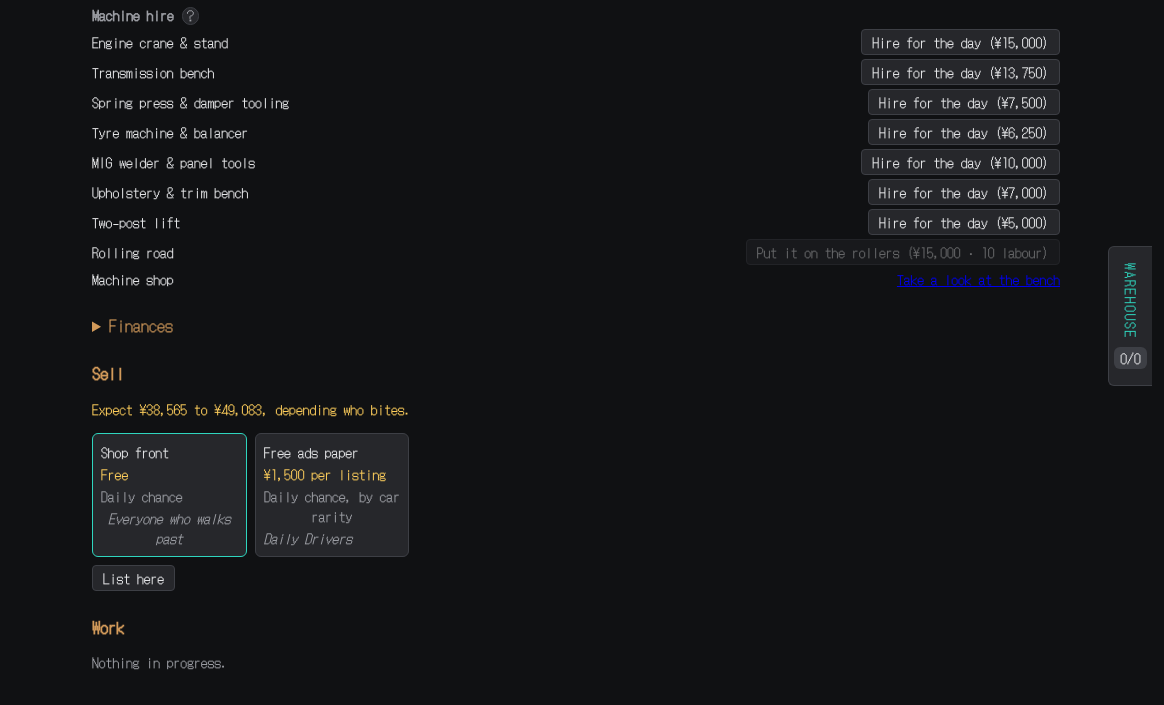
Scenario: CarDetailScreen › Sprint 114: the selling rework (channel picker + want-line) › lists the car on the armed channel and shows it as the active channel
(page scrolled)
What coordinates should you click on to do the following:
click the button with test id "channel-option-freeAdsPaper"
I would click on:
 (332, 495)
Its box is [255,433,409,557].
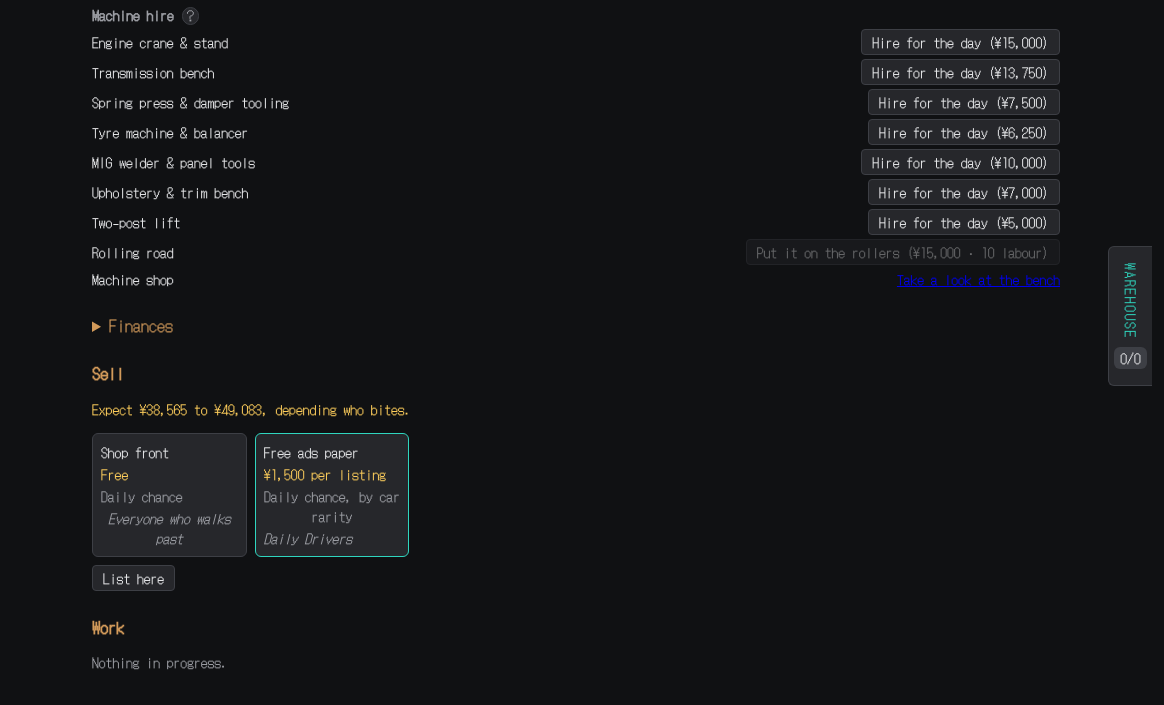
What coordinates should you click on to do the following:
click the button with test id "list-on-channel"
I would click on:
 (134, 578)
Its box is [92,565,175,591].
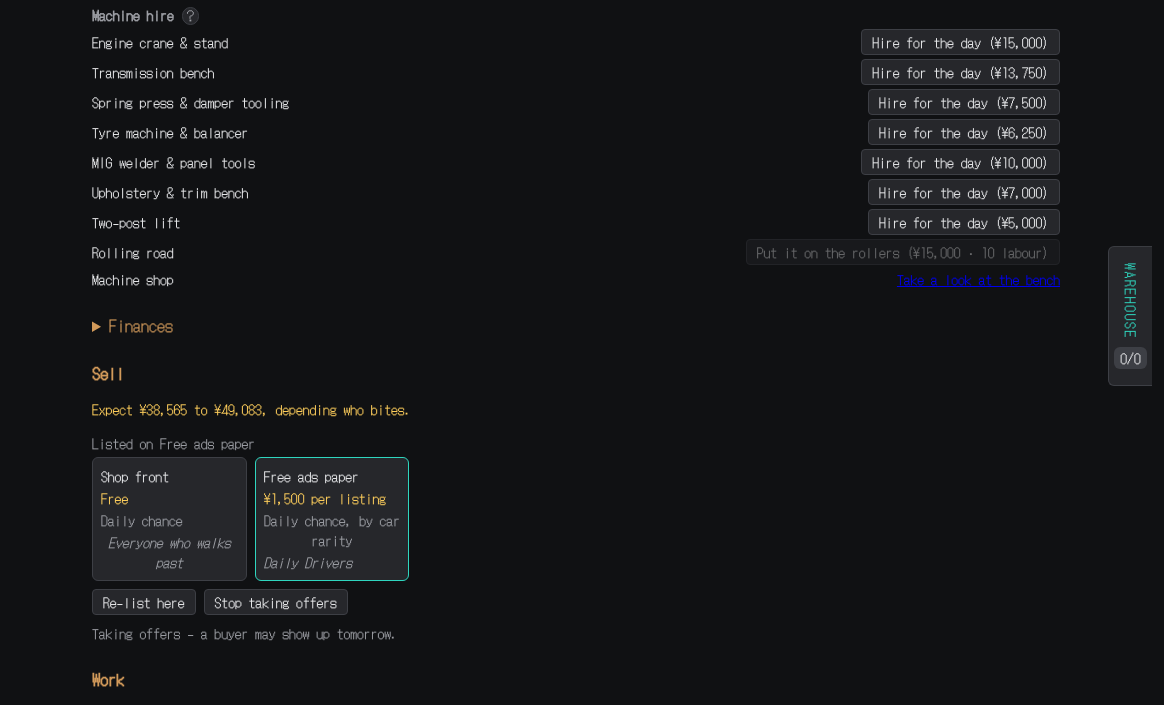
expect the text with test id "active-channel" shows "Free ads paper": met, box [92,433,255,453]
